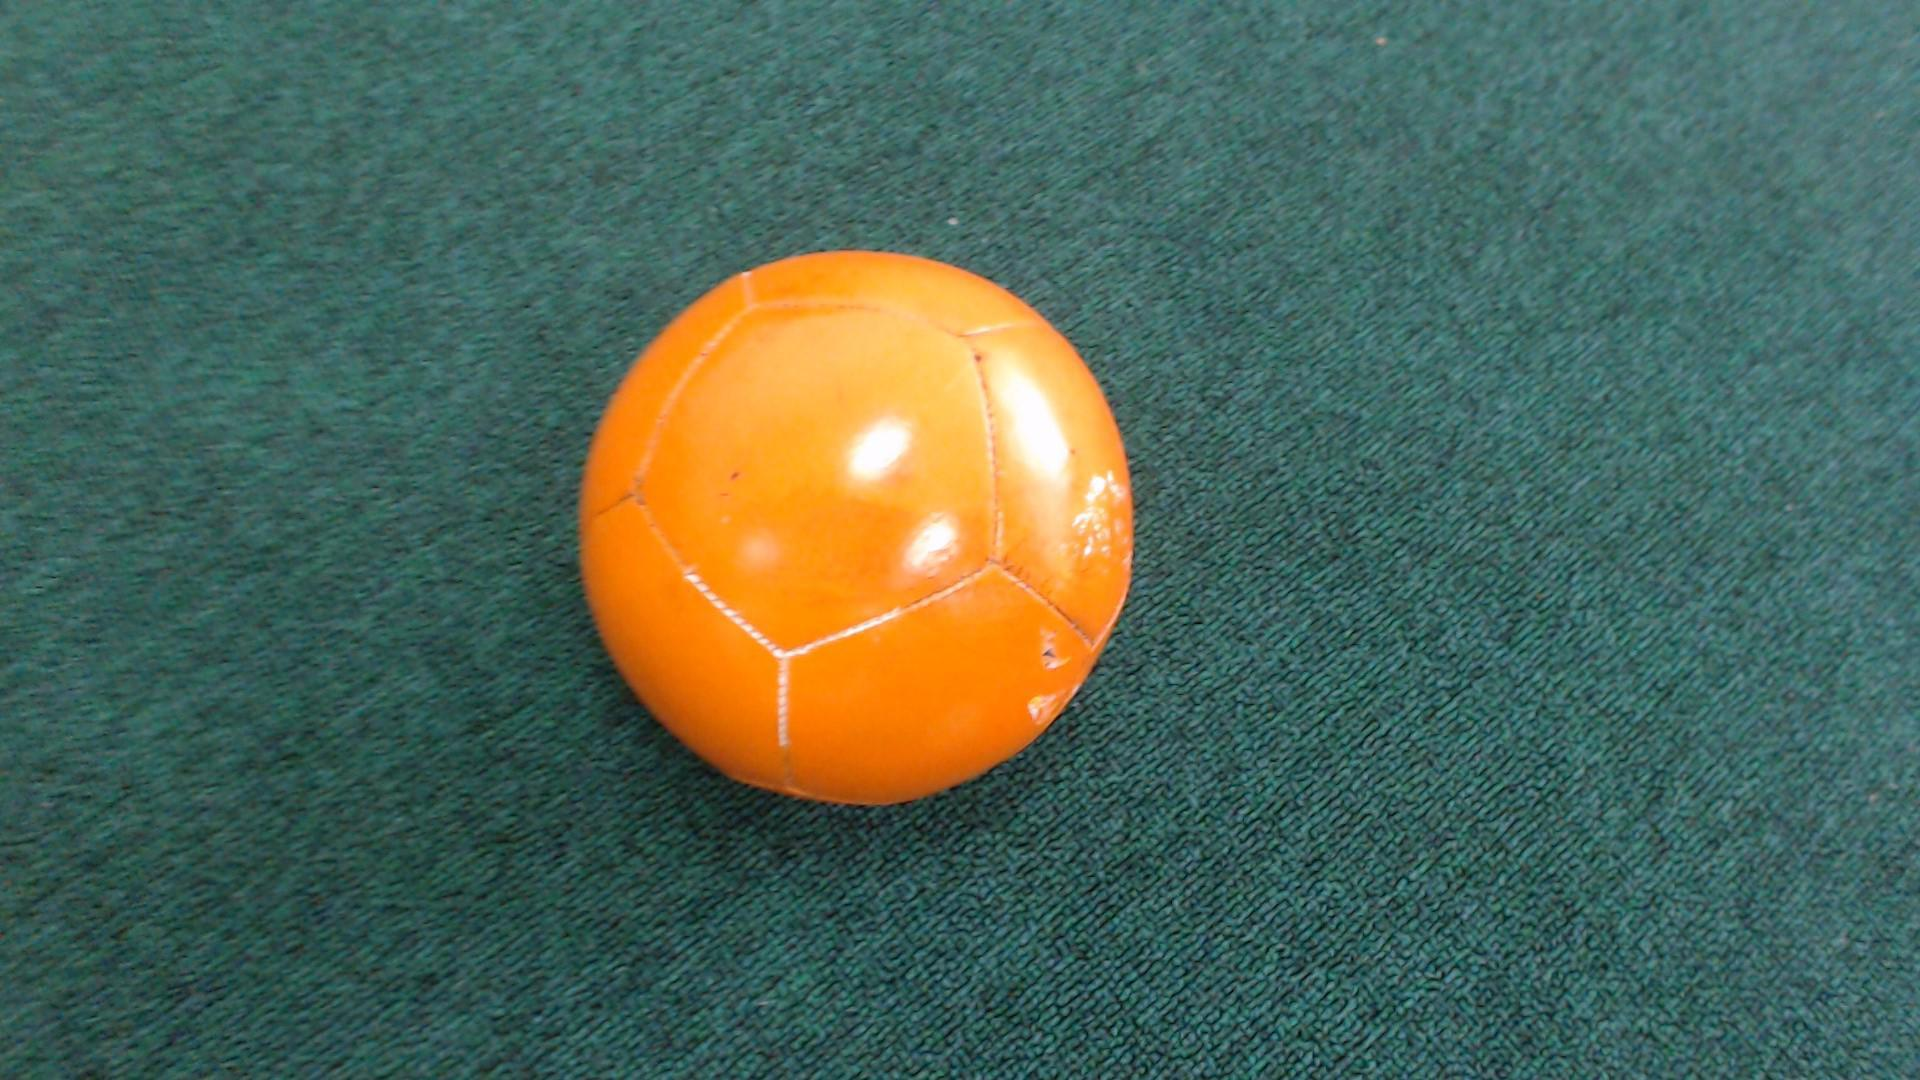bola: (534, 236, 1179, 823)
